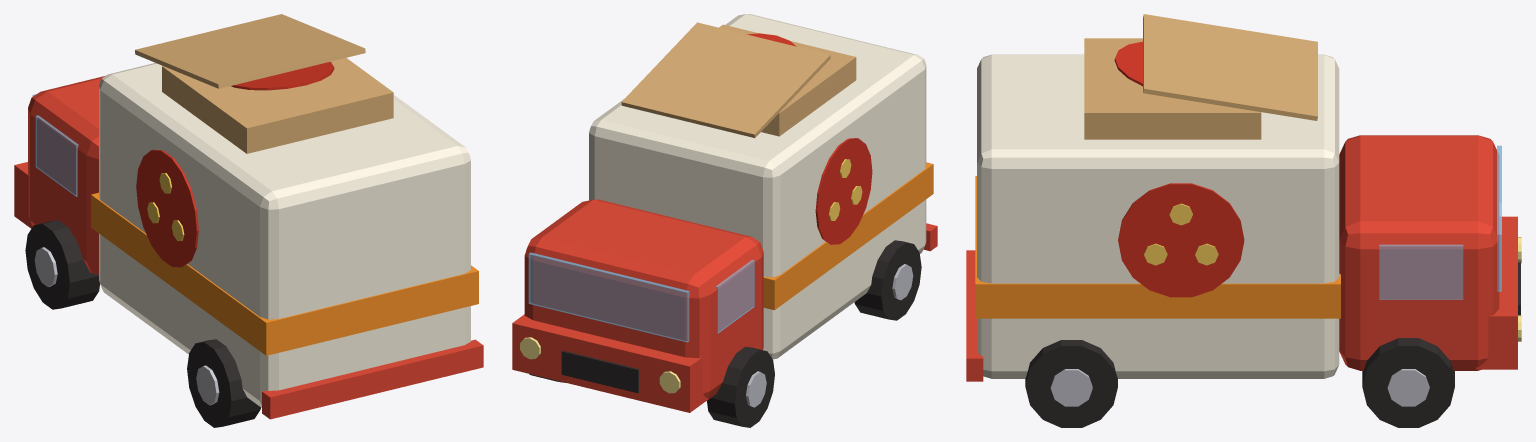
Rendered from DeliveryVan.fbx.
3 renders of one model, left to right at view 1: azimuth 30°, elevation 25°; view 2: azimuth 150°, elevation 25°; view 3: azimuth 270°, elevation 25°, orthographic. The views are drawn at different scales.
Parts seen in each view (by area): view 1: VanBody, PizzaBox, VanRed, VanStripe, Tire, BoxLogo, Windows, Hubcap, LogoDots; view 2: VanBody, VanRed, PizzaBox, Windows, Tire, VanStripe, BoxLogo, Grille, Hubcap, Lamp, LogoDots; view 3: VanBody, VanRed, PizzaBox, VanStripe, BoxLogo, Tire, Windows, Hubcap, LogoDots.
Part boxes in pixels (box(x1,y1,x2,y2)): VanBody: box(99, 63, 470, 407); PizzaBox: box(135, 14, 393, 153); VanRed: box(14, 76, 483, 419); VanStripe: box(91, 192, 478, 355); Tire: box(25, 220, 260, 427); BoxLogo: box(136, 61, 334, 267); Windows: box(32, 94, 78, 196); Hubcap: box(34, 247, 219, 405); LogoDots: box(147, 173, 184, 241); VanBody: box(589, 14, 926, 359); VanRed: box(512, 199, 937, 412); PizzaBox: box(621, 22, 856, 137); Windows: box(528, 252, 754, 342); Tire: box(529, 240, 921, 427); VanStripe: box(763, 162, 933, 310); BoxLogo: box(747, 33, 872, 244); Grille: box(561, 350, 638, 393); Hubcap: box(746, 264, 913, 407); Lamp: box(520, 337, 680, 393); LogoDots: box(829, 159, 862, 220); VanBody: box(977, 54, 1339, 378); VanRed: box(966, 135, 1517, 381); PizzaBox: box(1084, 14, 1317, 139); VanStripe: box(975, 176, 1340, 318); BoxLogo: box(1114, 41, 1244, 297); Tire: box(1025, 338, 1454, 427); Windows: box(1379, 145, 1501, 299); Hubcap: box(1050, 369, 1429, 406); LogoDots: box(1144, 203, 1218, 265).
Size of the model in its own units: 6.87 by 8.31 by 13.18.
